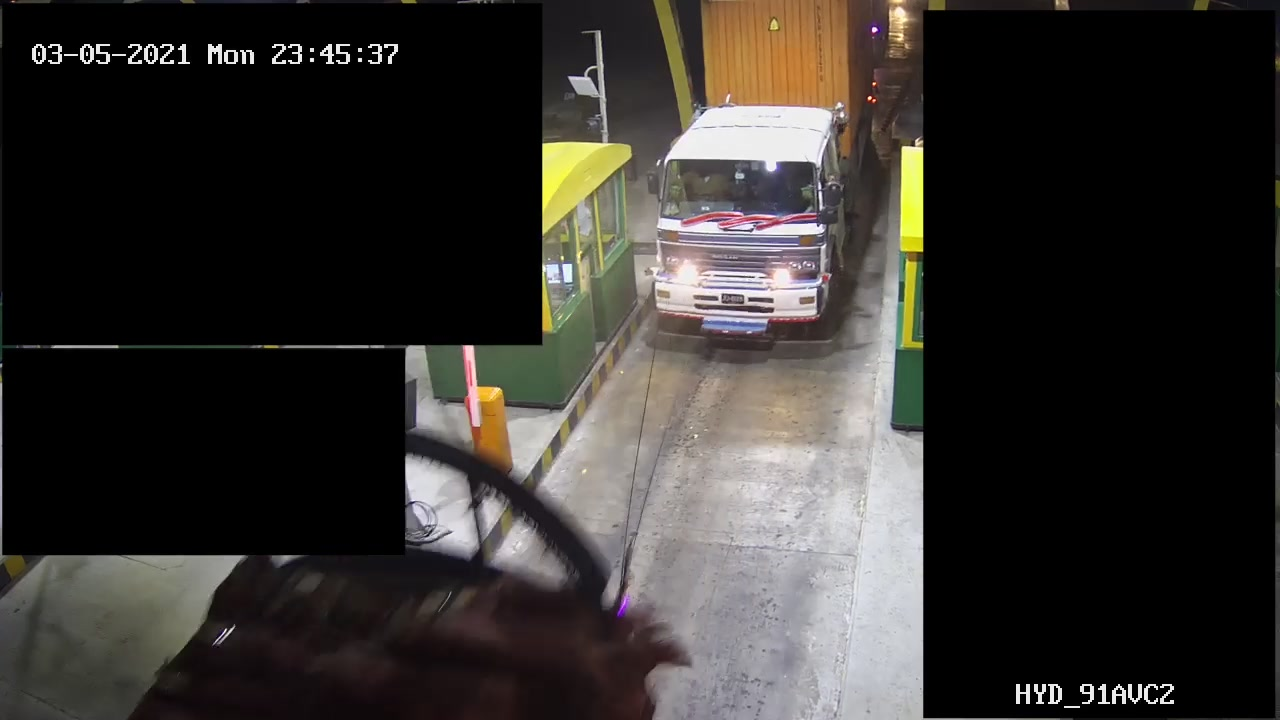F6: (639, 1, 890, 340)
